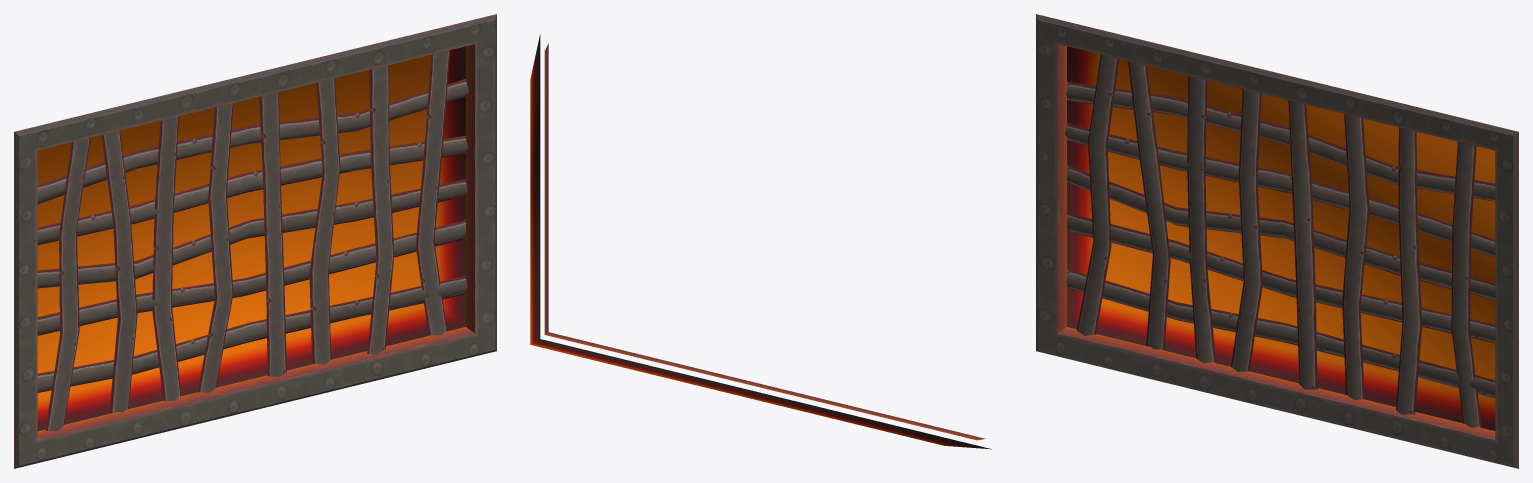
Rendered from tile_6x4.glb.
The picture shows the model from 3 angles, left to right: view 1: azimuth 30°, elevation 25°; view 2: azimuth 150°, elevation 25°; view 3: azimuth 330°, elevation 25°; orthographic projection.
Parts seen in each view (by area): view 1: flame_grates.tile_6x4-MeshNodes["flame_pit_6x4_bars"], flame_grates.tile_6x4-MeshNodes["flame_pit_6x4_pit"], flame_grates.tile_6x4-MeshNodes["flame_pit_6x4"]; view 2: flame_grates.tile_6x4-MeshNodes["flame_pit_6x4_pit"], flame_grates.tile_6x4-MeshNodes["flame_pit_6x4"]; view 3: flame_grates.tile_6x4-MeshNodes["flame_pit_6x4_bars"], flame_grates.tile_6x4-MeshNodes["flame_pit_6x4_pit"], flame_grates.tile_6x4-MeshNodes["flame_pit_6x4"].
Part boxes in pixels (x1,y1,x2,y2): flame_grates.tile_6x4-MeshNodes["flame_pit_6x4_bars"]: [37, 50, 469, 430]; flame_grates.tile_6x4-MeshNodes["flame_pit_6x4_pit"]: [37, 46, 465, 430]; flame_grates.tile_6x4-MeshNodes["flame_pit_6x4"]: [14, 14, 496, 468]; flame_grates.tile_6x4-MeshNodes["flame_pit_6x4_pit"]: [530, 34, 991, 449]; flame_grates.tile_6x4-MeshNodes["flame_pit_6x4"]: [544, 43, 985, 440]; flame_grates.tile_6x4-MeshNodes["flame_pit_6x4_bars"]: [1064, 54, 1495, 427]; flame_grates.tile_6x4-MeshNodes["flame_pit_6x4_pit"]: [1067, 46, 1495, 430]; flame_grates.tile_6x4-MeshNodes["flame_pit_6x4"]: [1036, 14, 1518, 468].
Size of the model in its own units: 6.01 by 4.01 by 0.6696.
3 materials, 3 textured.
